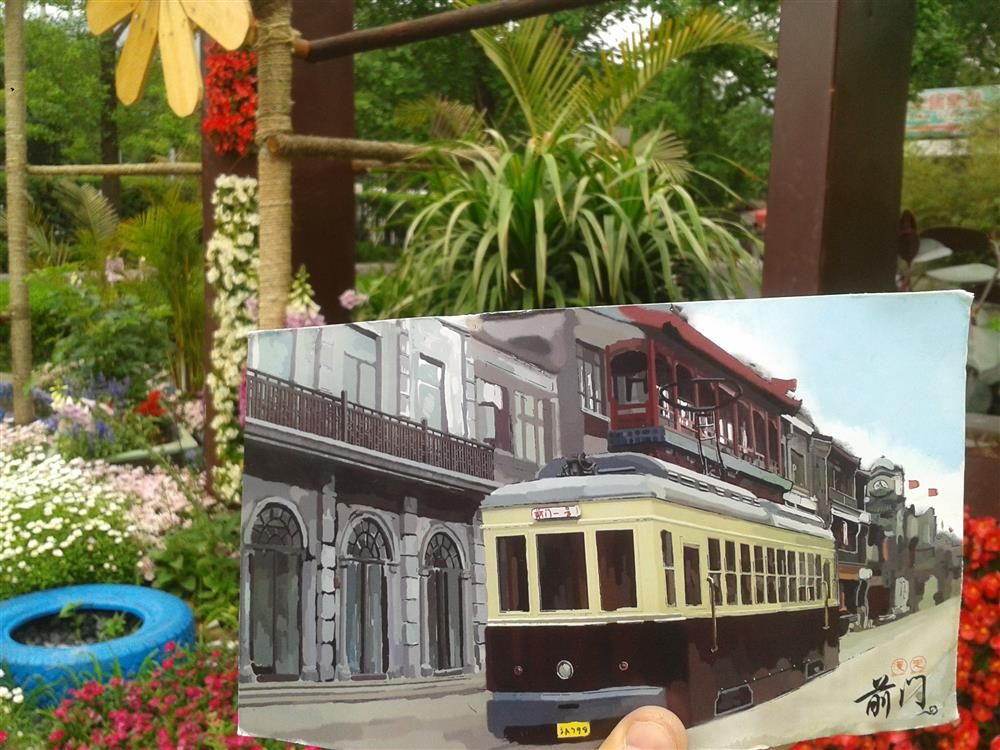postcard: (232, 290, 977, 736)
